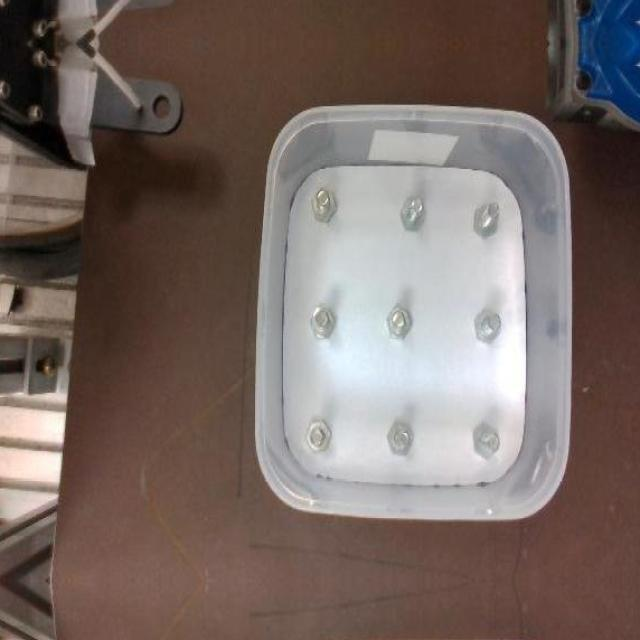screw: (473, 421, 499, 459), (399, 197, 426, 231), (476, 307, 501, 343), (388, 421, 414, 455), (476, 201, 499, 239), (306, 418, 331, 452), (311, 188, 336, 221), (386, 306, 411, 339), (311, 304, 335, 338)
